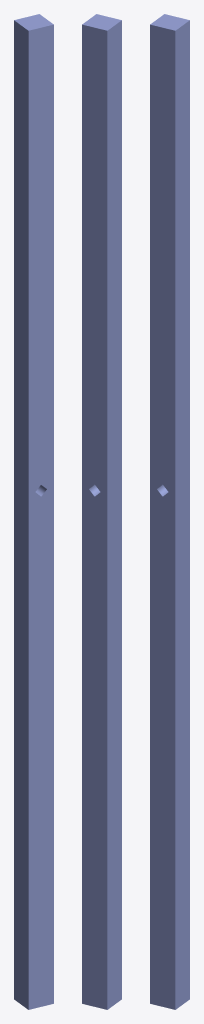
The model's file is Copie de Bati Pied arriere gauhe^Copie de Bati_Horloge Comtoise Verge - Sonnerie.obj.
3 views of the same model, side by side, from view 1: azimuth 30°, elevation 25°; view 2: azimuth 150°, elevation 25°; view 3: azimuth 330°, elevation 25° (orthographic).
Visible parts, largest first — view 1: Face_1, Face_5, Face_4; view 2: Face_7, Face_5, Face_4; view 3: Face_1, Face_3, Face_4.
Boxes of the visible parts, bbox=[...] form: Face_1: bbox=[28, 24, 53, 1009]; Face_5: bbox=[14, 20, 28, 1009]; Face_4: bbox=[14, 14, 53, 30]; Face_7: bbox=[82, 24, 107, 1009]; Face_5: bbox=[107, 20, 121, 1009]; Face_4: bbox=[82, 14, 121, 30]; Face_1: bbox=[150, 24, 175, 1009]; Face_3: bbox=[175, 20, 189, 1009]; Face_4: bbox=[150, 14, 189, 30].
Size of the model in its own units: 0.0065 by 0.239 by 0.0064.
